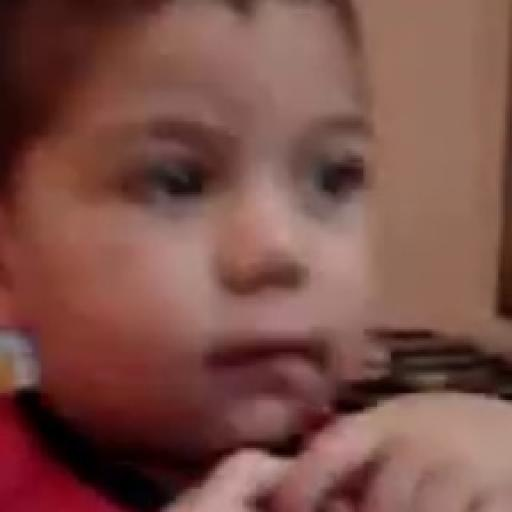Autism: (7, 14, 512, 476)
